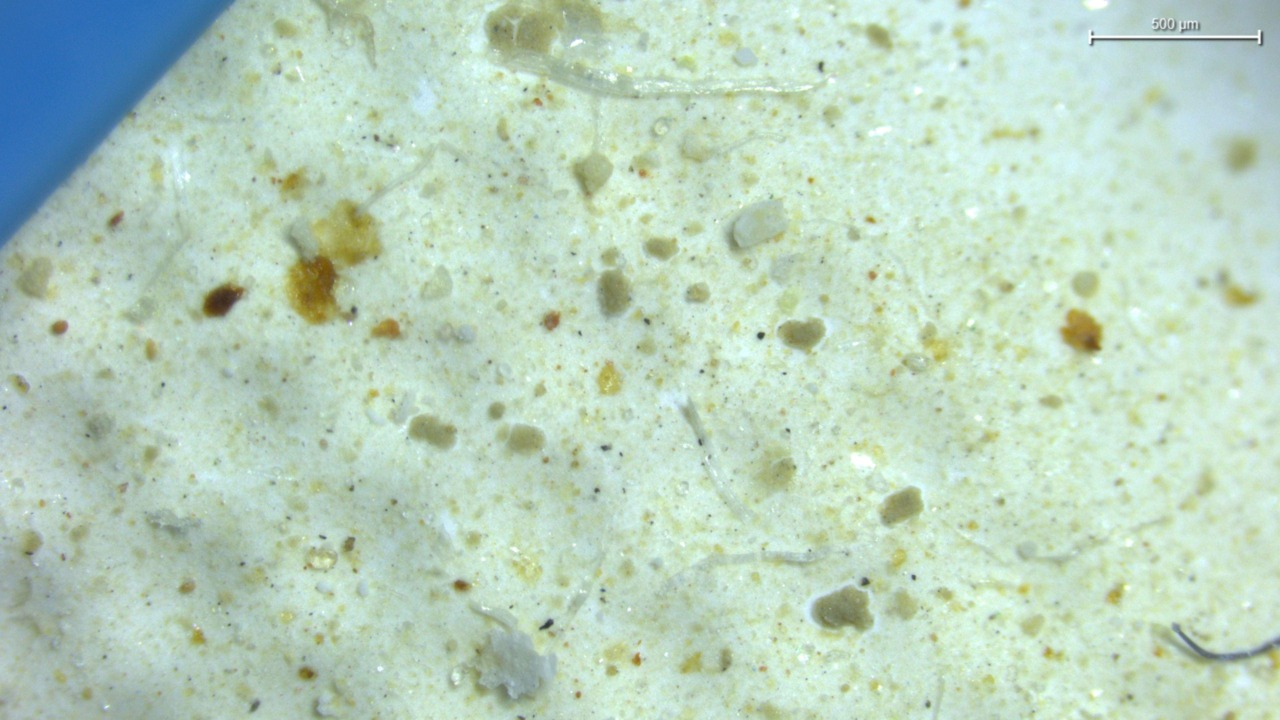microplastic_fragment: (472, 608, 557, 700), (731, 200, 788, 248), (573, 153, 613, 194), (286, 220, 319, 260)
